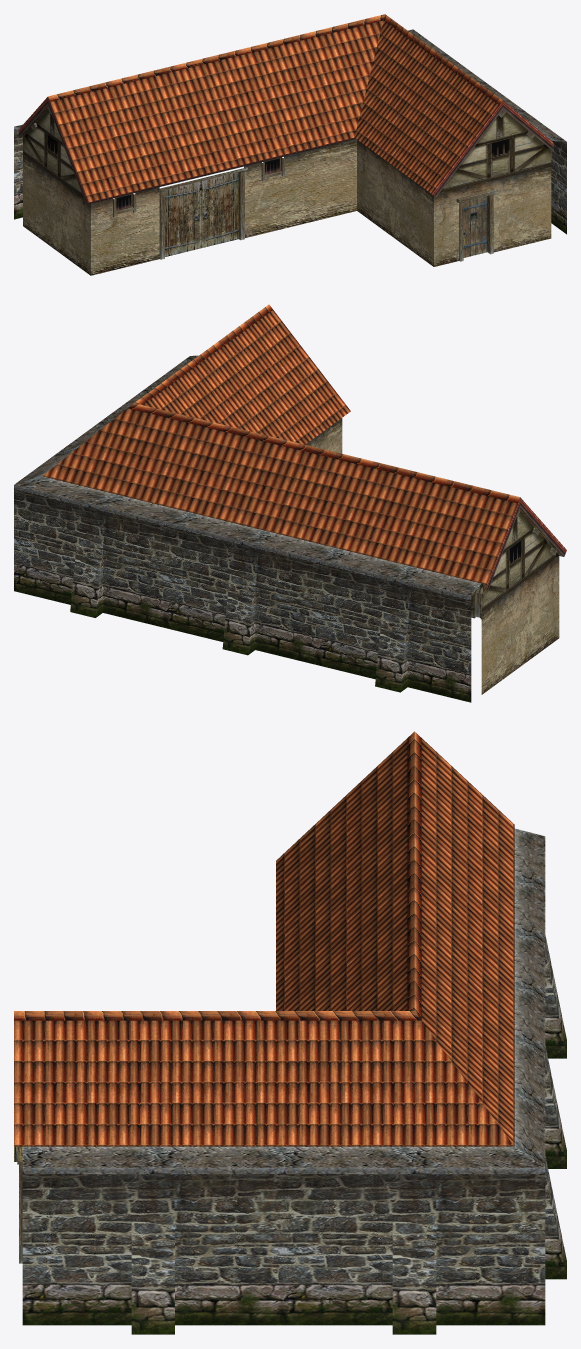
Rendered from mhouse20b.glb.
The picture shows the model from 3 angles, top to bottom: view 1: azimuth 30°, elevation 25°; view 2: azimuth 150°, elevation 25°; view 3: azimuth 270°, elevation 25°; orthographic projection. The views are drawn at different scales.
Parts seen in each view (by area): view 1: mhouse20b; view 2: mhouse20b; view 3: mhouse20b.
Part boxes in pixels (x1,y1,x2,y2): mhouse20b: (14, 14, 566, 275); mhouse20b: (14, 304, 566, 702); mhouse20b: (14, 731, 566, 1334).
Size of the model in its own units: 18.7 by 6.57 by 12.7.
11 materials, 11 textured.
